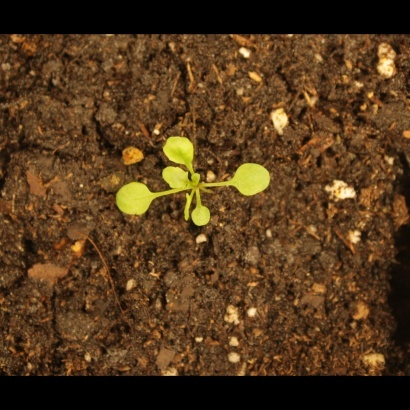leaf: (226, 157, 278, 200), (161, 131, 208, 173), (114, 181, 156, 221), (172, 192, 195, 228), (161, 168, 190, 196), (190, 201, 216, 227), (188, 169, 211, 195)
